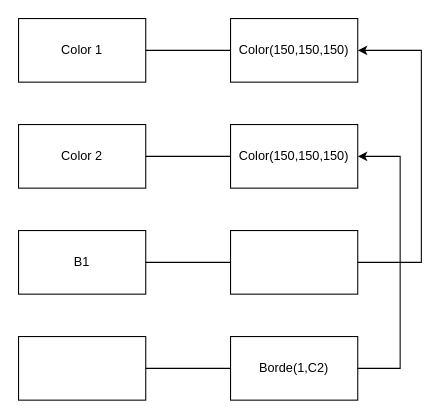
Some shapes in this 448 by 419 pixel diagram are drawn without their labels. Each missing label, with the box of its shape:
B2: (17, 335, 146, 400)
Borde(1,C1): (229, 229, 358, 294)
